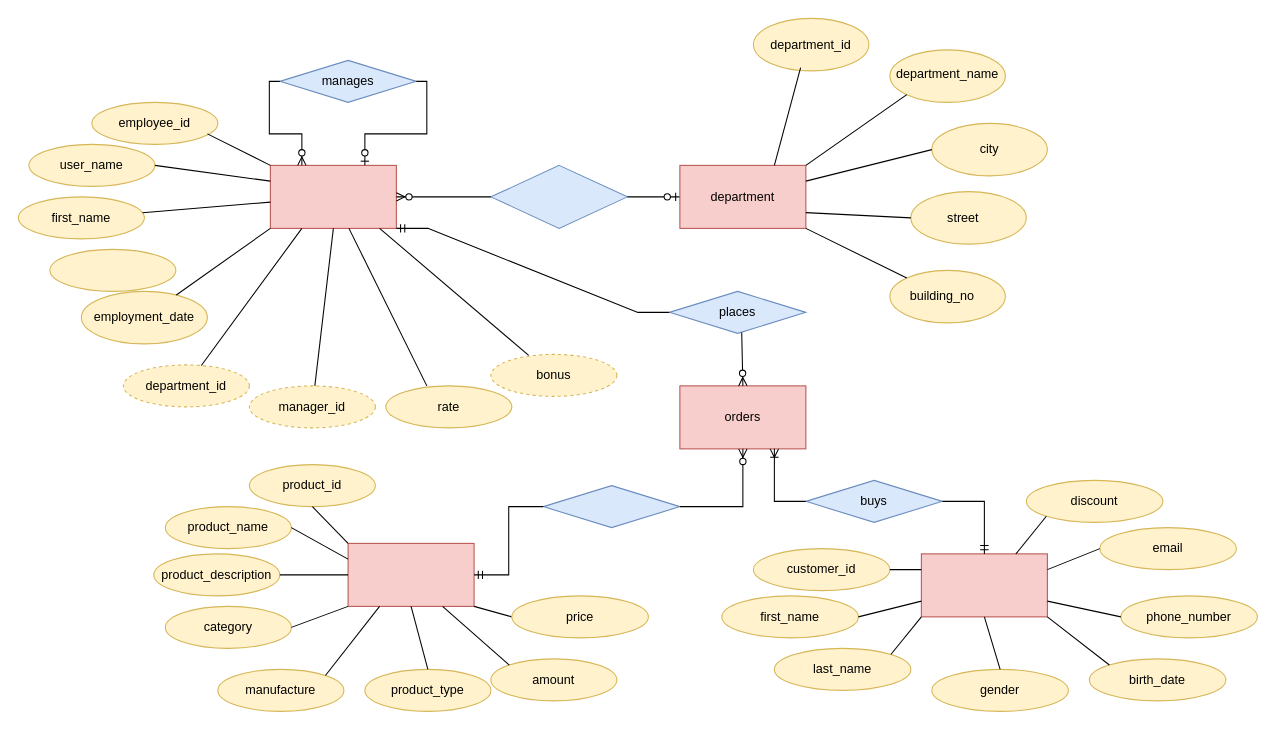
The diagram is 1276 pixels wide and 730 high, and some of its shapes have lost their labels. Here are the shapes that lost their labels. From the top down, the centre of each, then its label:
At point 332,196: "employee".
At point 558,196: "works_for".
At point 112,269: "position".
At point 611,506: "sells".
At point 410,574: "product".
At point 983,585: "customer".
